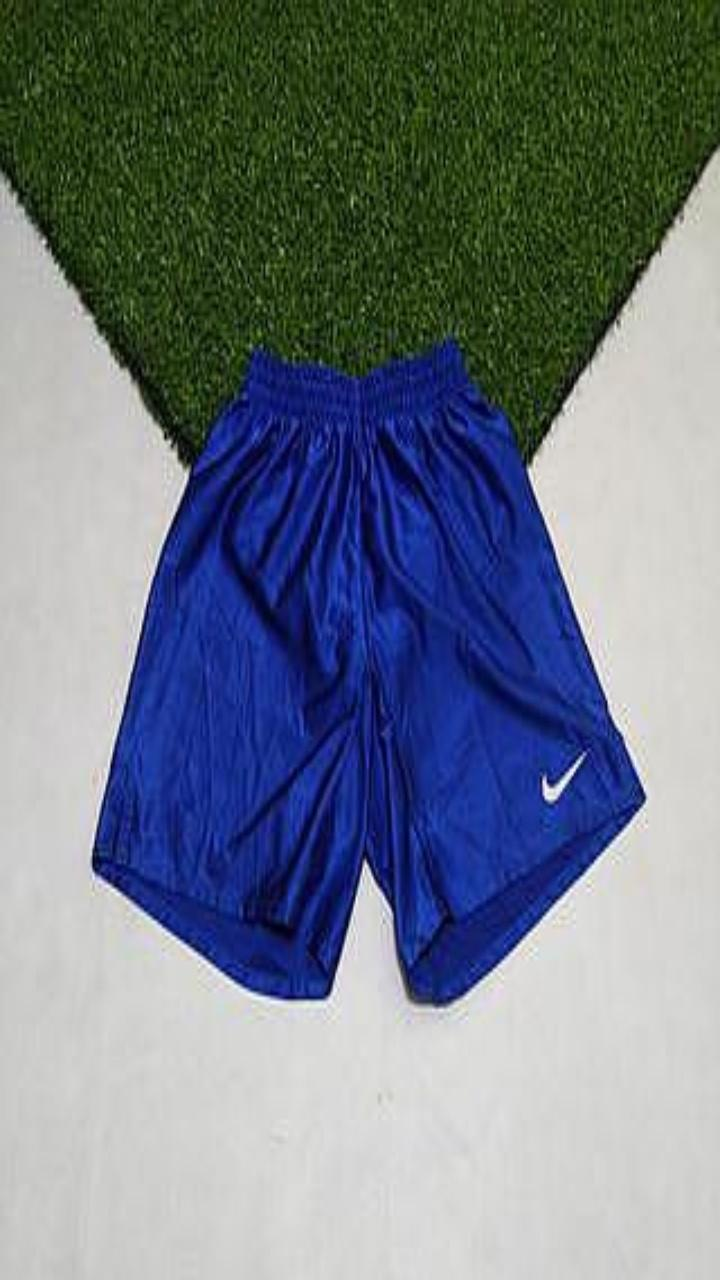Shorts: (92, 337, 643, 1002)
